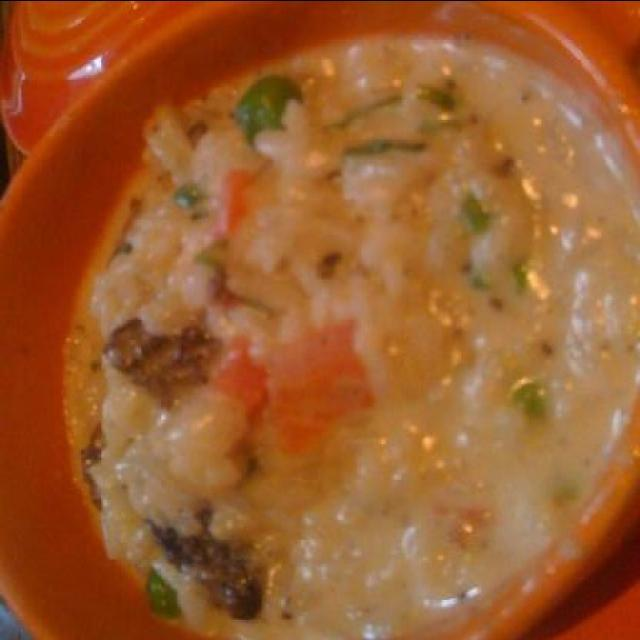Risotto: (81, 58, 625, 610)
